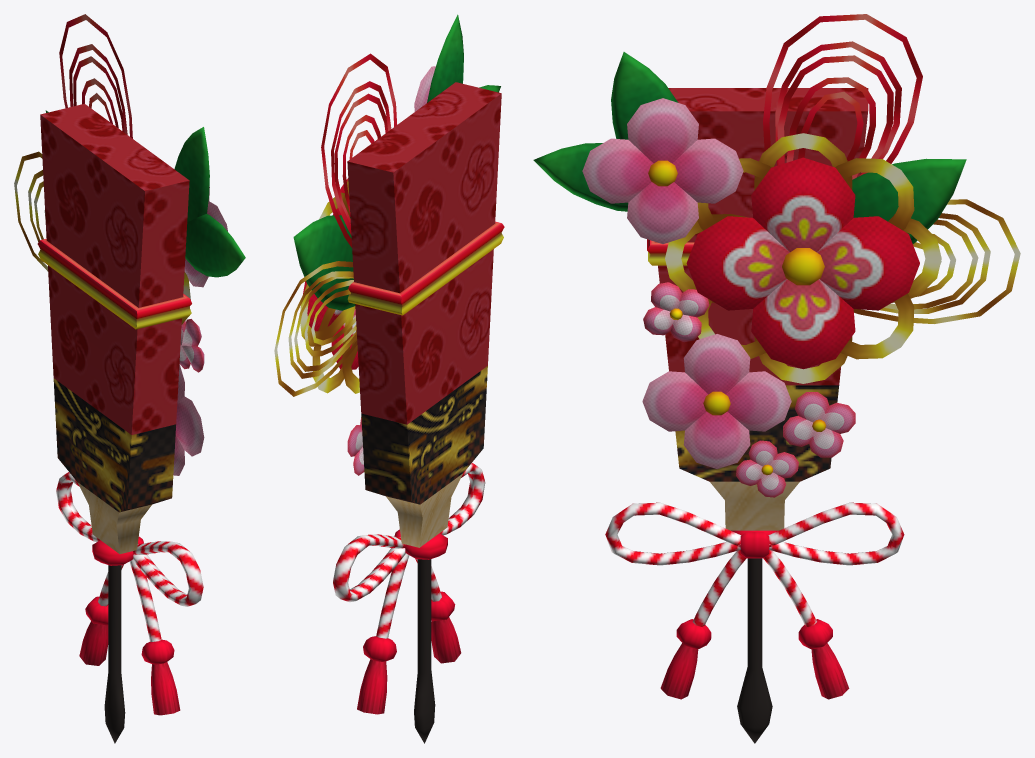
File: SwordObject_3d_009.fbx
3 renders of one model, left to right at view 1: azimuth 30°, elevation 25°; view 2: azimuth 150°, elevation 25°; view 3: azimuth 270°, elevation 25°, orthographic. The views are drawn at different scales.
Visible parts, largest first — view 1: SwordObject_3d_009; view 2: SwordObject_3d_009; view 3: SwordObject_3d_009.
Part boxes in pixels (box(x1,y1,x2,y2)): SwordObject_3d_009: box(14, 14, 245, 743); SwordObject_3d_009: box(274, 14, 504, 743); SwordObject_3d_009: box(533, 14, 1020, 743).
Bounding box in the file's own units: 31.36 × 245 × 146.
